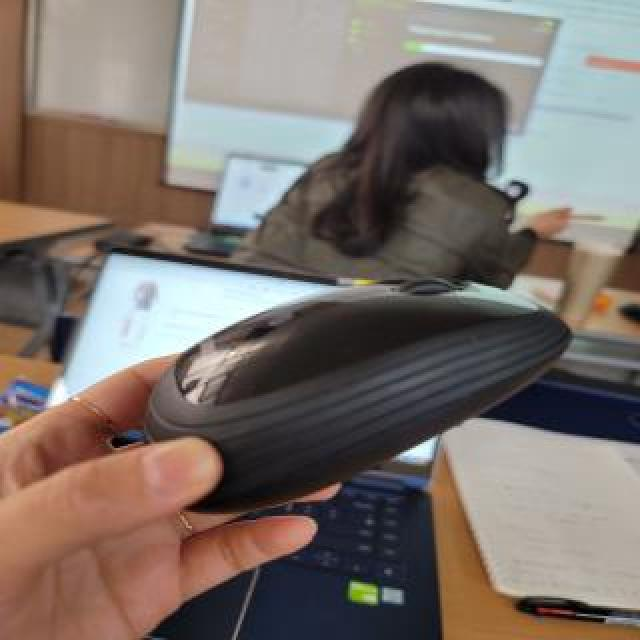mouse: (138, 278, 604, 482), (138, 478, 178, 484)
